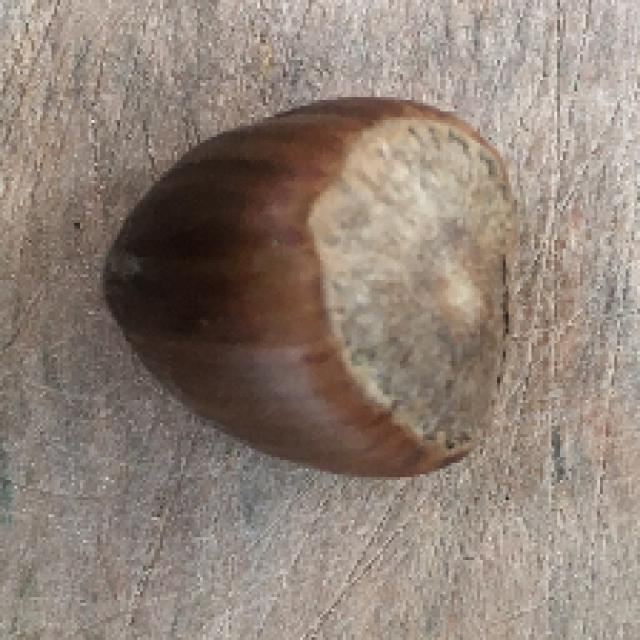damagedHazelnut: (110, 97, 540, 482)
